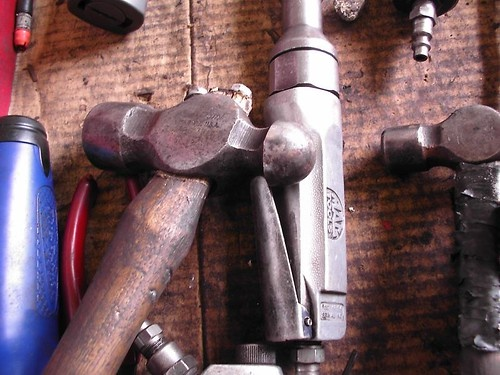hammer: (44, 86, 318, 375), (378, 101, 500, 367)
